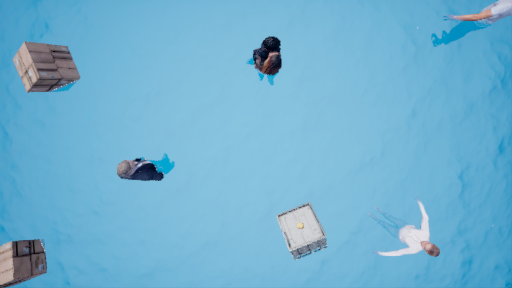person: (368, 199, 444, 260), (428, 7, 512, 45), (241, 40, 298, 91), (113, 150, 182, 192)
